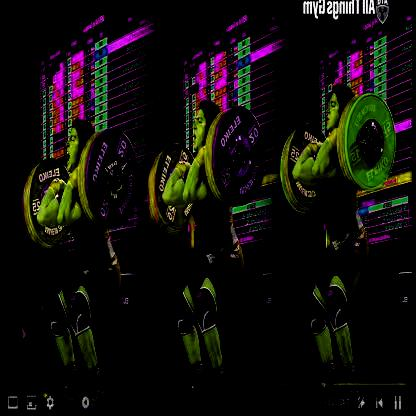Barbell: (239, 145, 251, 163), (113, 169, 124, 186), (373, 131, 382, 148)
